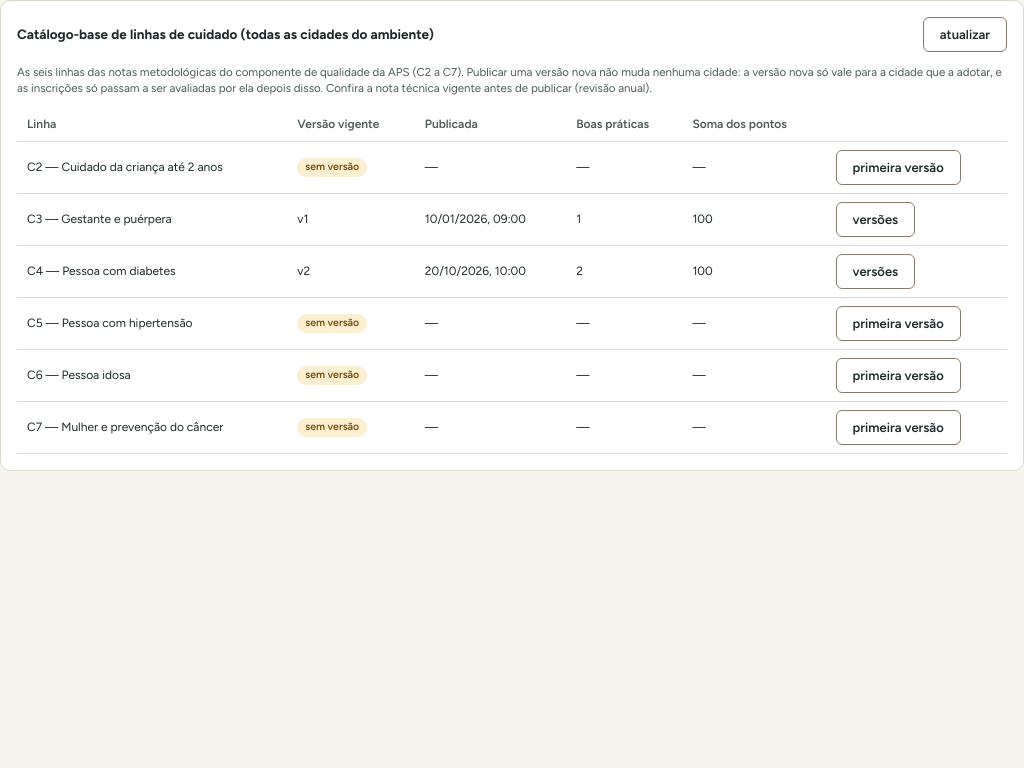
Test: CareLineTemplateForm › o indicador é só leitura (derivado da chave) e a condição declarada só oferece as da elegibilidade
The width and height of the screenshot is (1024, 768).
Click the button "versões" in the row of "C4 — Pessoa com diabetes" at (875, 272), box 836,254 -> 915,289
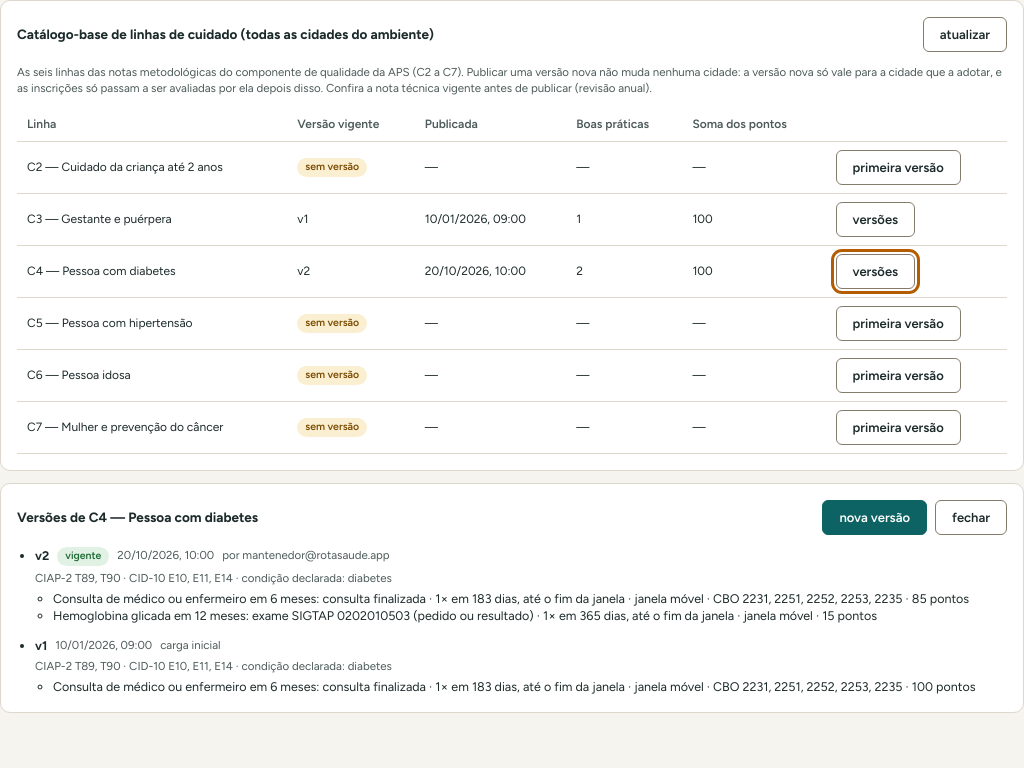
Click the button "nova versão" at (875, 518), box 822,500 -> 927,535
(page scrolled)
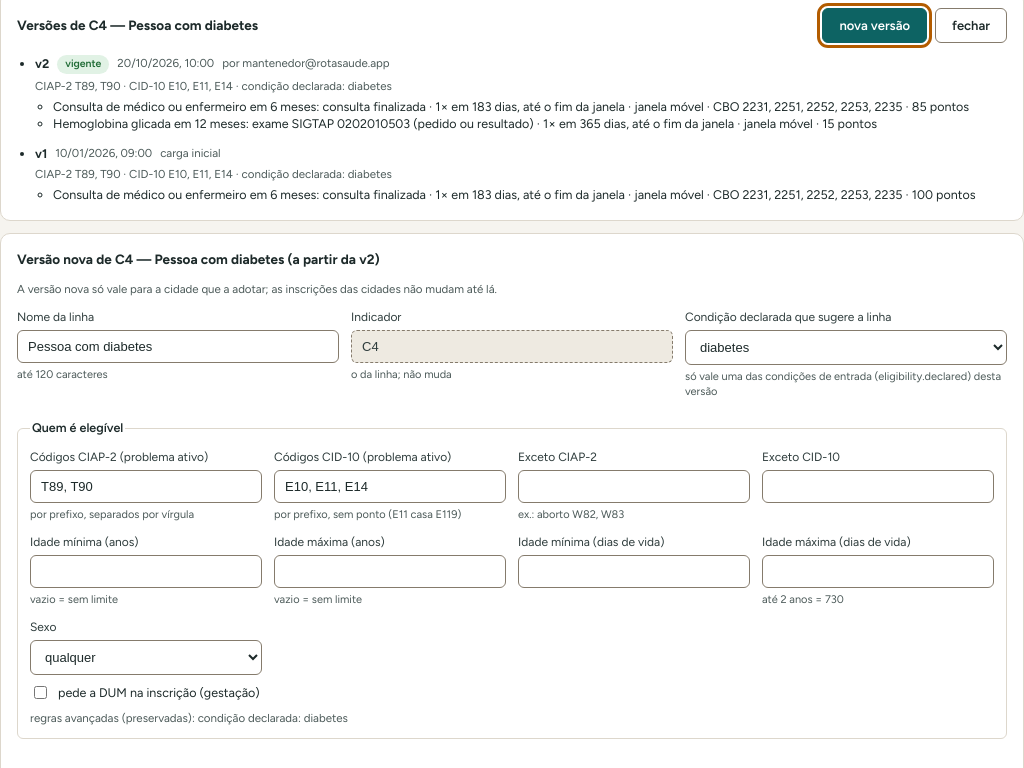
Expected: the field labelled "Indicador" holds "C4", 351,330 -> 673,363
Expected: the field labelled "Indicador" is disabled, 351,330 -> 673,363
Expected: the dropdown labelled "Condição declarada que sugere a linha" shows "diabetes", 685,330 -> 1007,365
